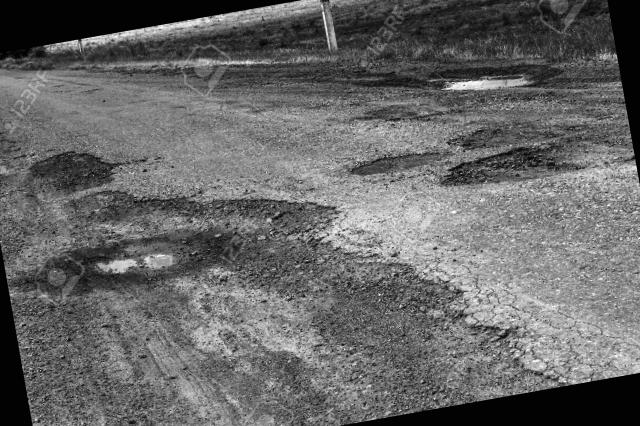Pothole: (438, 118, 636, 203), (49, 214, 210, 305), (418, 45, 570, 122), (20, 132, 142, 206), (444, 93, 554, 150), (342, 138, 468, 183)
